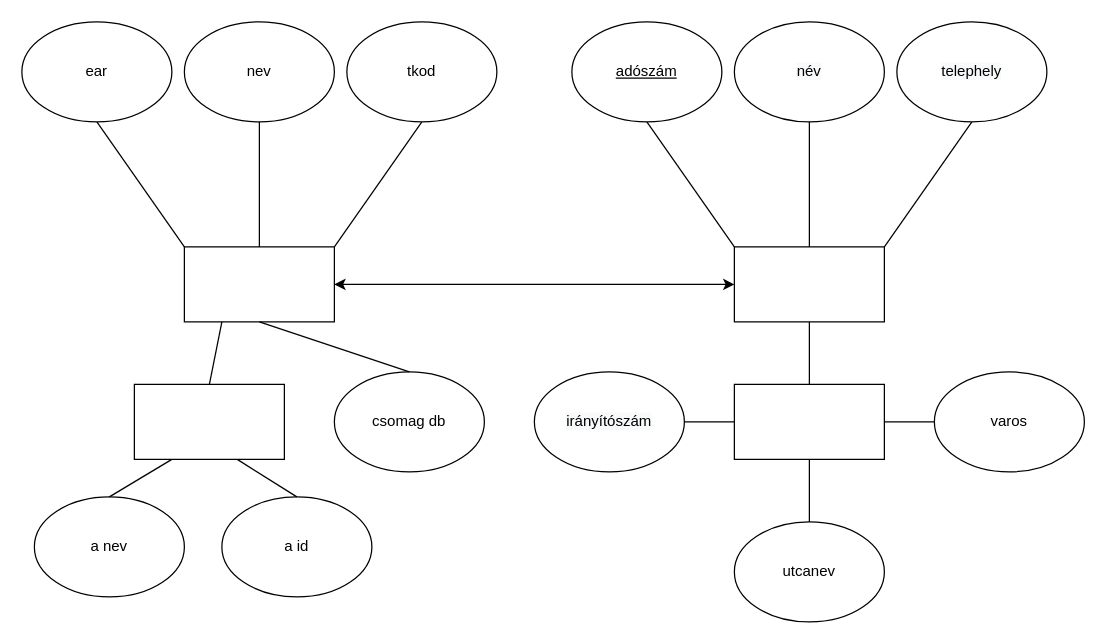
This 1106x644 diagram has some shape labels left out. Each missing label, with the box of its shape:
alkatresz: (133, 383, 284, 459)
Gyartok: (733, 246, 884, 322)
Postai cim: (733, 383, 884, 459)
Termekek: (183, 246, 334, 322)
